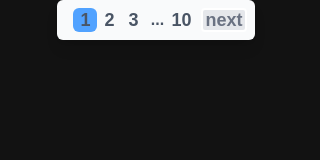
it: Pagination › navigate using the incr button
Click the text "next" at (224, 20), box [206,6,242,34]
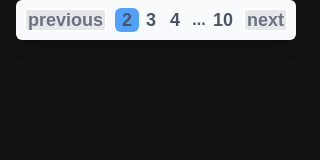
Now the text "previous" is shown
Click the text "previous" at (66, 20), box [28,6,103,34]
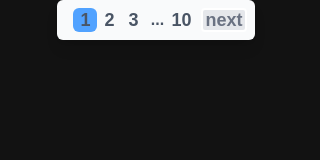
Now the text "1" is shown, box [80,6,90,34]
Now the text "previous" is gone
